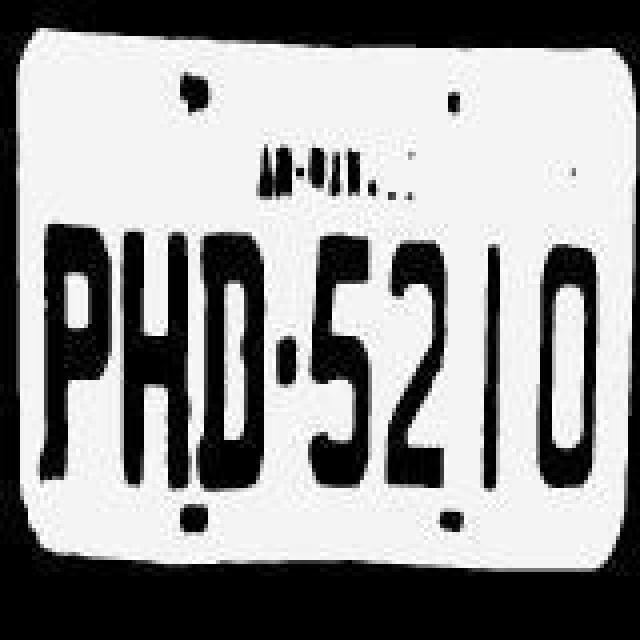1: (462, 238, 514, 490)
2: (386, 246, 462, 490)
5: (296, 232, 376, 488)
D: (194, 226, 270, 502)
H: (122, 218, 198, 494)
O: (518, 240, 602, 496)
P: (36, 212, 116, 484)
